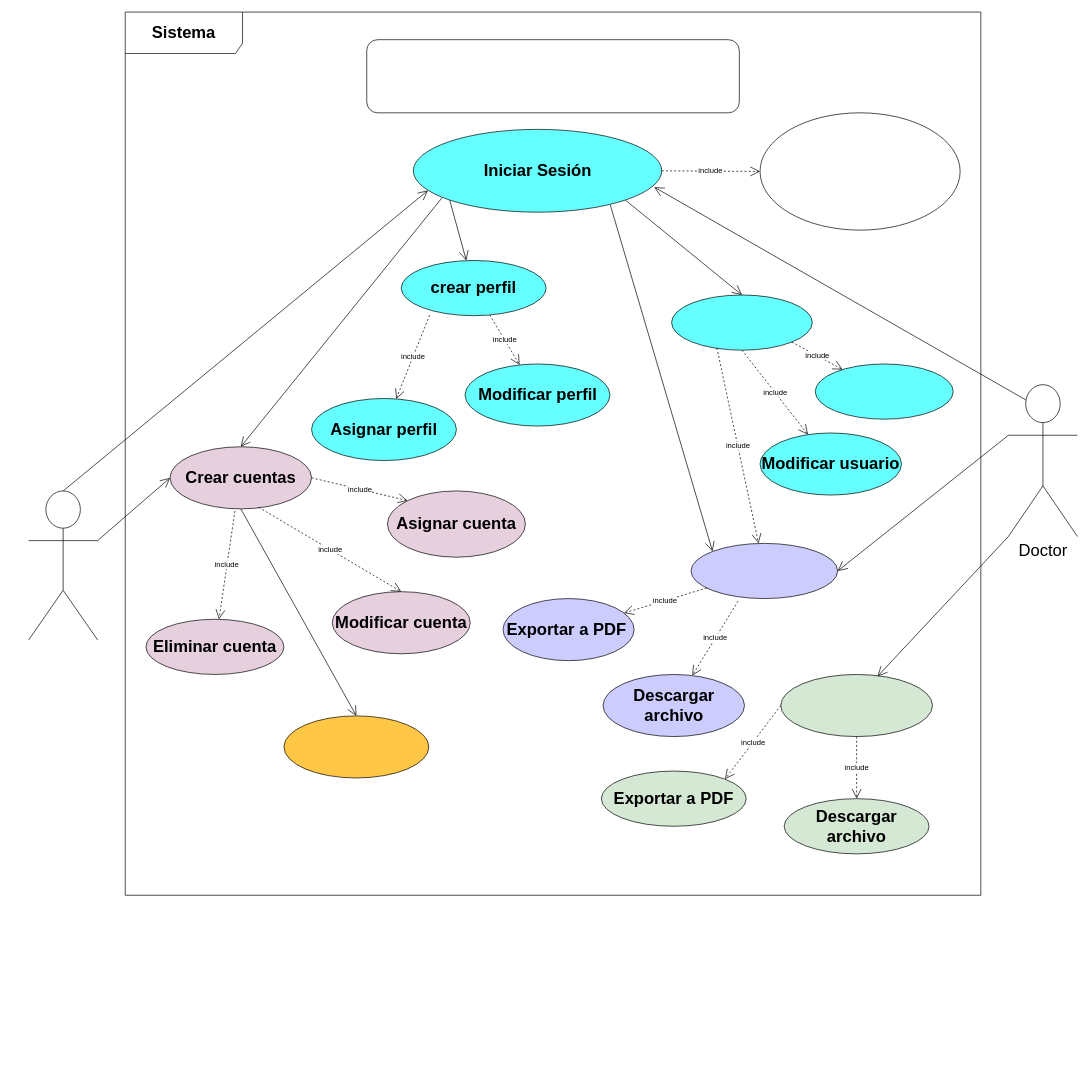
Some shapes in this 1090 by 1092 pixel diagram are drawn without their labels. Each missing label, with the centre of its shape:
"Administrador" belongs at (63,565).
"Consultar diagnóstico" belongs at (856,705).
"Consultar imágen" belongs at (764,571).
"Crear usuario" belongs at (741,322).
"DIAGRAMA CASOS DE USO MEDHEART" belongs at (552,76).
"Eliminar usuario" belongs at (884,391).
"Envíar contacto" belongs at (356,746).
"Validar usuarios y roles al inicio de sesión" belongs at (859,171).
